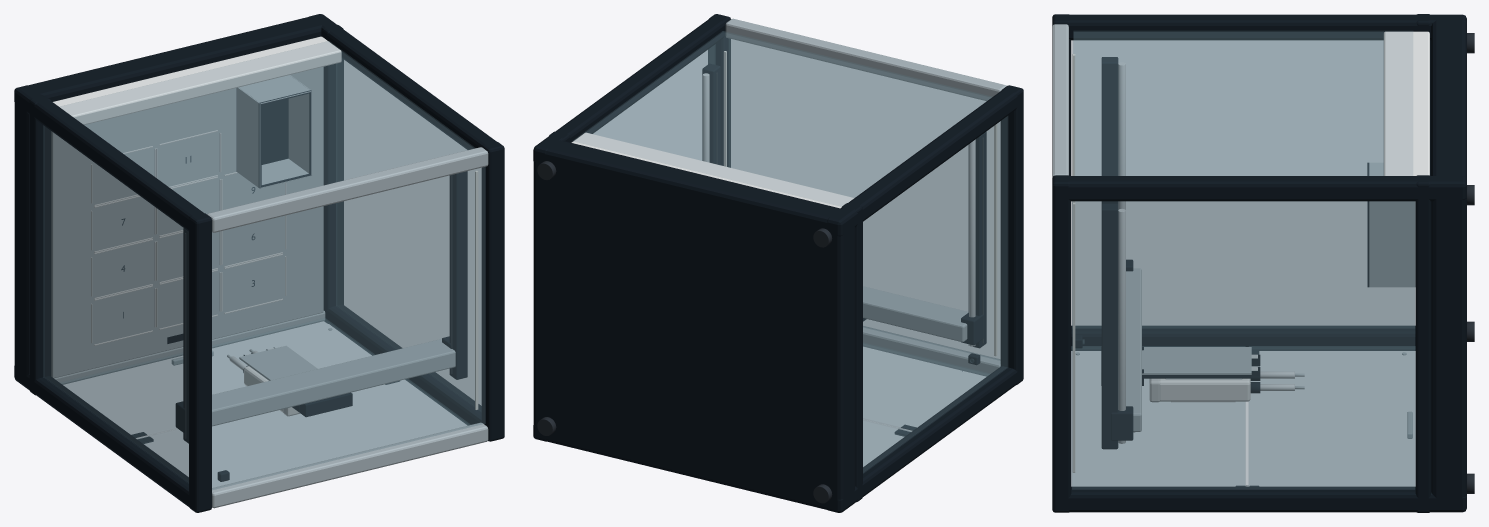
The model's file is opentrons_ot2.glb.
3 views of the same model, side by side, from view 1: azimuth 30°, elevation 25°; view 2: azimuth 150°, elevation 25°; view 3: azimuth 270°, elevation 25° (orthographic). The views are drawn at different scales.
Parts seen in each view (by area): view 1: Clear rear window, Front brushed sill, Bottom side frame, Left GEN2 pipette body, Left pipette face, Interior LED diffuser, Moving X belt; view 2: Bottom side frame, Clear rear window, Front brushed sill, Left GEN2 pipette body, Front frame screw, Moving X belt, Interior LED diffuser; view 3: Clear rear window, Bottom side frame, Front brushed sill, Left GEN2 pipette body, Front frame screw, Interior LED diffuser, Moving X belt.
Boxes of the visible parts, x1,y1,x2,y2 form: Clear rear window: (43, 41, 485, 489); Front brushed sill: (51, 67, 488, 508); Bottom side frame: (14, 14, 504, 512); Left GEN2 pipette body: (53, 36, 341, 412); Left pipette face: (91, 130, 300, 416); Interior LED diffuser: (475, 171, 478, 409); Moving X belt: (184, 175, 452, 438); Bottom side frame: (533, 14, 1023, 512); Clear rear window: (573, 31, 1007, 473); Front brushed sill: (725, 18, 1006, 376); Left GEN2 pipette body: (571, 132, 854, 208); Front frame screw: (702, 73, 975, 431); Moving X belt: (537, 73, 983, 503); Interior LED diffuser: (723, 51, 997, 355); Clear rear window: (1071, 31, 1415, 489); Bottom side frame: (1052, 14, 1466, 512); Front brushed sill: (1052, 24, 1415, 438); Left GEN2 pipette body: (1159, 31, 1429, 401); Front frame screw: (1076, 62, 1406, 486); Interior LED diffuser: (1072, 54, 1075, 472); Moving X belt: (1134, 33, 1474, 493).
Size of the model in its own units: 0.63 by 0.57 by 0.66.
